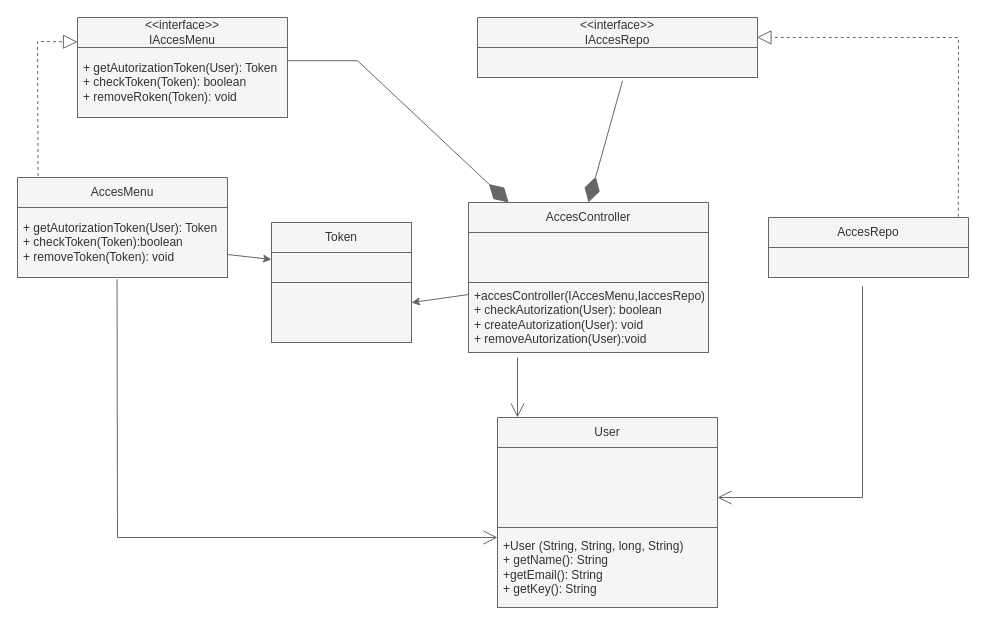
Some shapes in this 990 by 625 pixel diagram are drawn without their labels. Each missing label, with the centre of its shape:
+GetKey(): User: point (617, 62)
+GetKey(User): User: point (868, 262)
+Token(String): Token +getToken(): Token: point (341, 312)
- acces: IAccesMenu - repo: IAccesRepo: point (588, 257)
- name: String - hashPass: Long - email: string - key: String: point (607, 487)
-token: String: point (341, 267)
